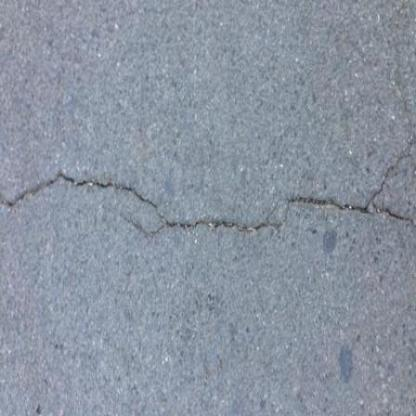Cracks: (0, 165, 416, 252), (347, 124, 416, 218)
